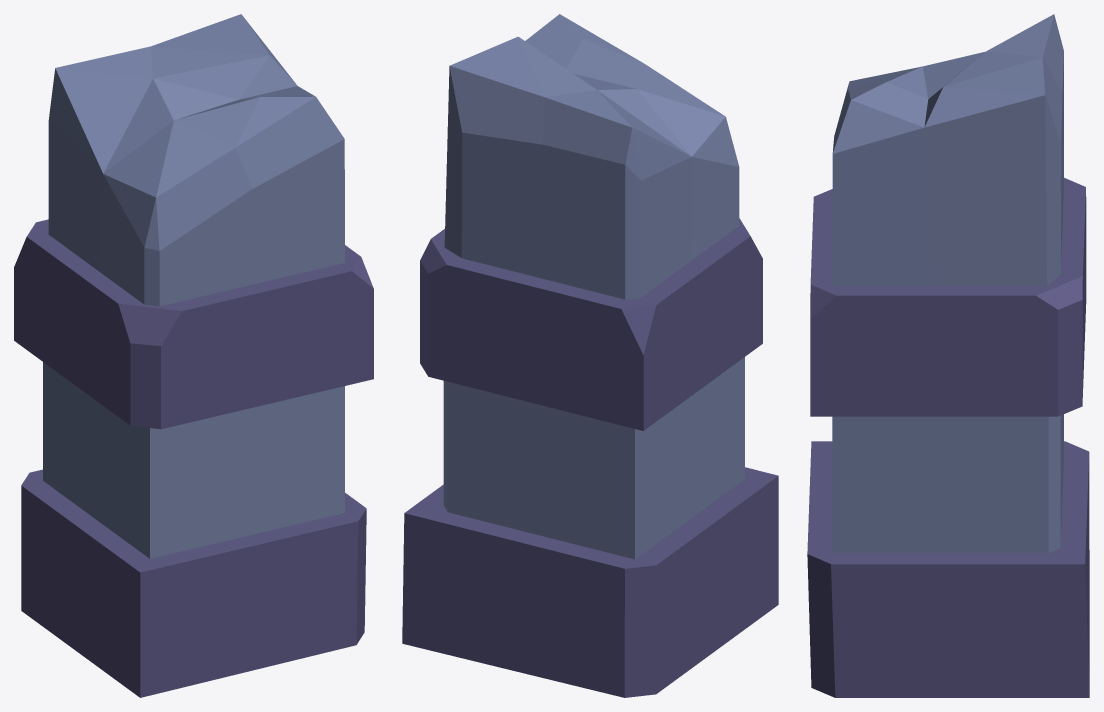
Rendered from Fence_Column_04.fbx.
The picture shows the model from 3 angles, left to right: view 1: azimuth 30°, elevation 25°; view 2: azimuth 150°, elevation 25°; view 3: azimuth 270°, elevation 25°; orthographic projection. The views are drawn at different scales.
Visible parts, largest first — view 1: Fence_Column_04; view 2: Fence_Column_04; view 3: Fence_Column_04.
Boxes of the visible parts, bbox=[...] form: Fence_Column_04: bbox=[14, 14, 373, 697]; Fence_Column_04: bbox=[402, 14, 778, 697]; Fence_Column_04: bbox=[807, 14, 1089, 697].
Size of the model in its own units: 78.67 by 176 by 76.44.
